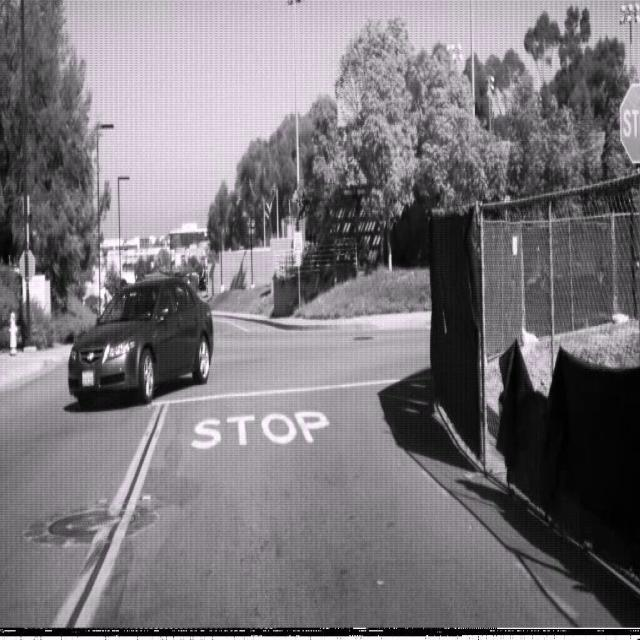speedLimit25: (293, 232, 302, 254)
